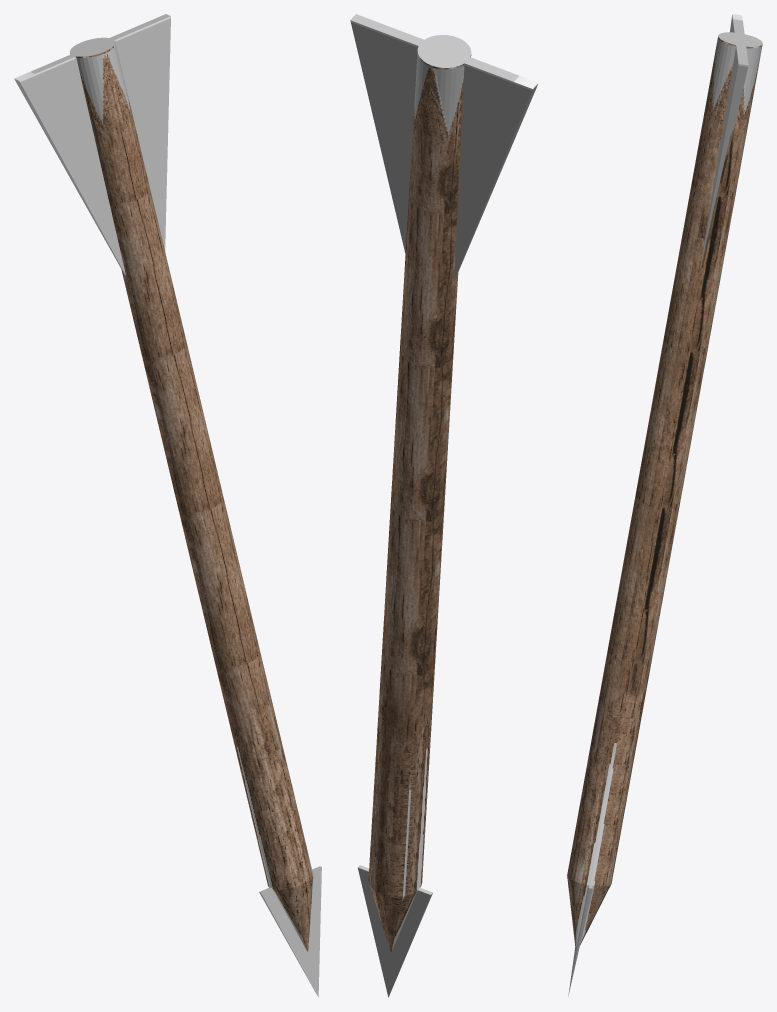
Rendered from Flecha1.obj.
The picture shows the model from 3 angles, left to right: view 1: azimuth 30°, elevation 25°; view 2: azimuth 150°, elevation 25°; view 3: azimuth 270°, elevation 25°; orthographic projection. The views are drawn at different scales.
Parts seen in each view (by area): view 1: Flecha; view 2: Flecha; view 3: Flecha.
Part boxes in pixels (bbox=[...]): Flecha: bbox=[14, 14, 321, 997]; Flecha: bbox=[350, 14, 538, 997]; Flecha: bbox=[567, 14, 762, 995].
Size of the model in its own units: 0.1715 by 0.6673 by 0.1307.
Materials: 1 (1 with a texture image).
